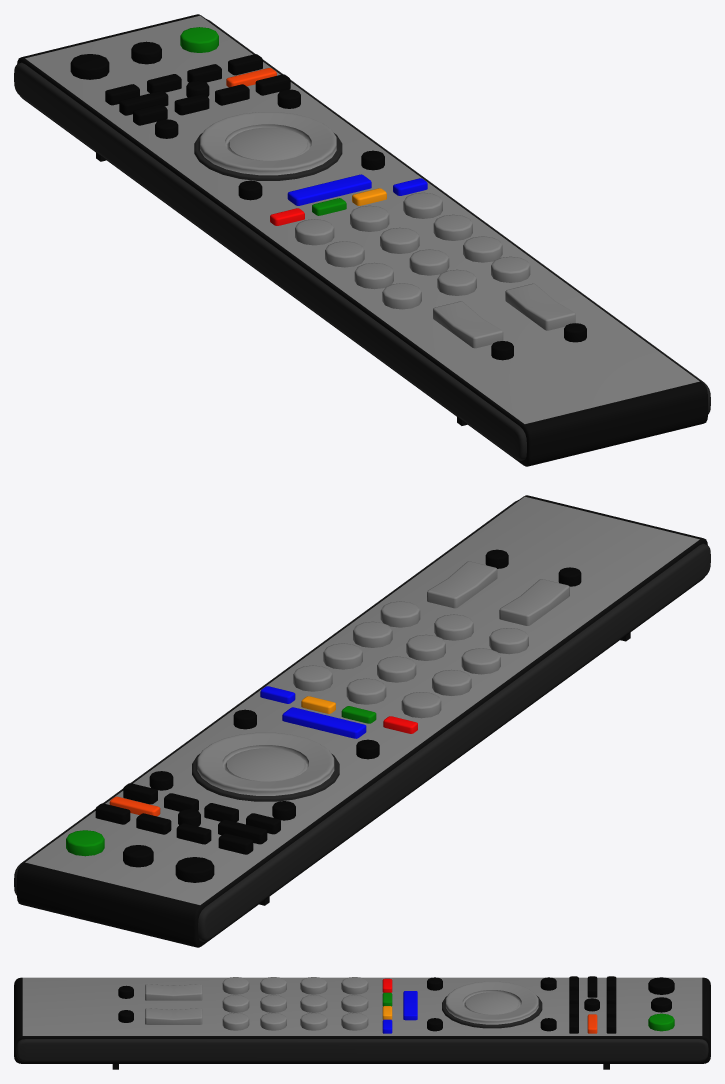
File: Remote 01.fbx
3 views of the same model, one above another, from view 1: azimuth 30°, elevation 25°; view 2: azimuth 150°, elevation 25°; view 3: azimuth 270°, elevation 25° (orthographic). The views are drawn at different scales.
Visible parts, largest first — view 1: RenderStuf; view 2: RenderStuf; view 3: RenderStuf.
Boxes of the visible parts, bbox=[...] form: RenderStuf: bbox=[14, 14, 710, 466]; RenderStuf: bbox=[14, 495, 710, 947]; RenderStuf: bbox=[14, 976, 710, 1069].
Bounding box in the file's own units: 1.92 × 0.5915 × 8.95.
